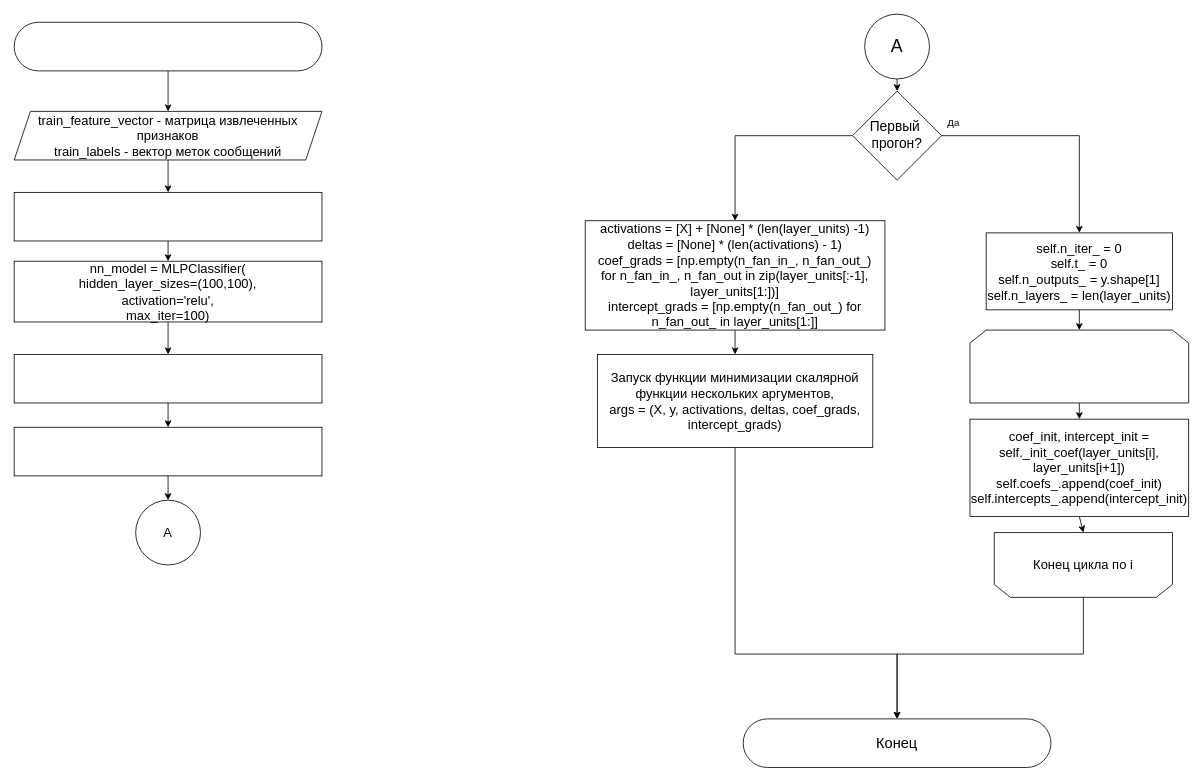
Some shapes in this 1203 by 782 pixel diagram are drawn without their labels. Each missing label, with the box of its shape:
hidden_layer_sizes = self.hidden_layer_sizes self.n_outputs_ = y.shape[1]: (13, 354, 322, 403)
layer_units = [n_features] + hidden_layer_sizes + [self.n_outputs_]: (13, 426, 322, 476)
x,y = train_feature_vector, train_labels: (13, 192, 322, 241)
Начало: (13, 21, 322, 71)
Цикл для i от 0 до self.n_layers_ - 1 с шагом 1: (969, 329, 1189, 403)
